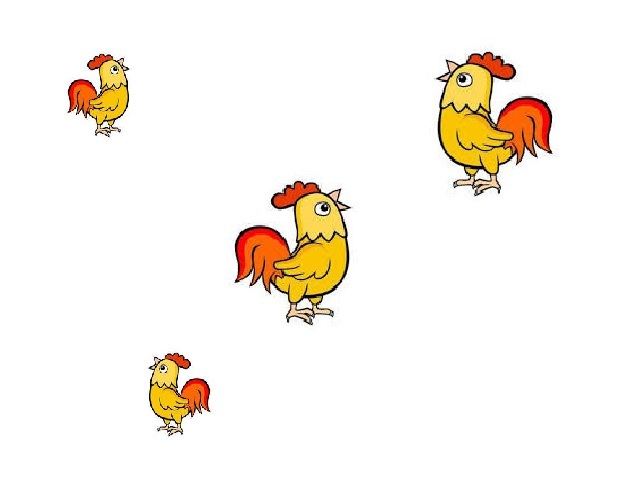crown: (455, 49, 517, 77), (272, 181, 312, 202), (87, 52, 110, 65), (169, 356, 190, 368)
eyes: (458, 71, 474, 85), (317, 202, 327, 217), (161, 365, 173, 377), (110, 66, 118, 75)
feet: (455, 173, 503, 196), (286, 305, 339, 323), (161, 422, 185, 437), (93, 126, 125, 137)
tail: (503, 95, 555, 157), (245, 222, 284, 290), (65, 78, 96, 115), (183, 377, 211, 416)
